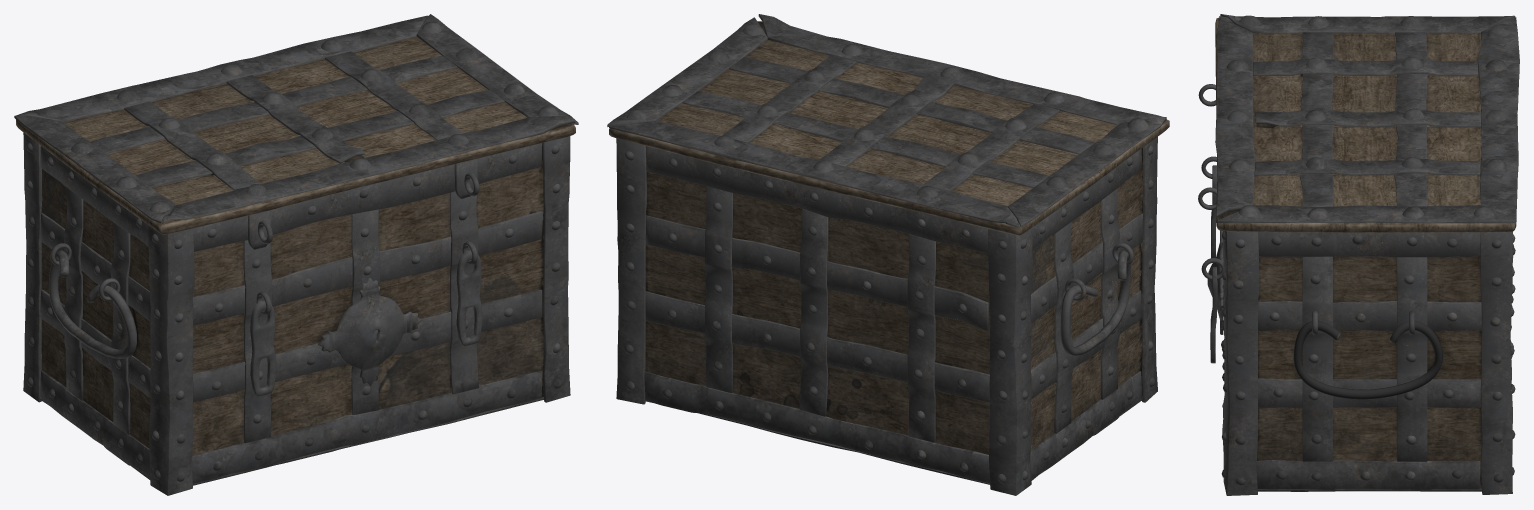
File: old_chest.glb.obj
3 views of the same model, side by side, from view 1: azimuth 30°, elevation 25°; view 2: azimuth 150°, elevation 25°; view 3: azimuth 270°, elevation 25° (orthographic).
Parts seen in each view (by area): view 1: obj1, obj2; view 2: obj1, obj2; view 3: obj1, obj2.
Part boxes in pixels (left/top/right/bottom): obj1: left=14, top=14, right=578, bottom=495; obj2: left=16, top=36, right=575, bottom=455; obj1: left=607, top=14, right=1166, bottom=495; obj2: left=609, top=21, right=1169, bottom=454; obj1: left=1198, top=14, right=1519, bottom=495; obj2: left=1215, top=17, right=1517, bottom=488.
Bounding box in the file's own units: 0.9428 × 0.576 × 0.5828.
2 materials, 2 textured.
